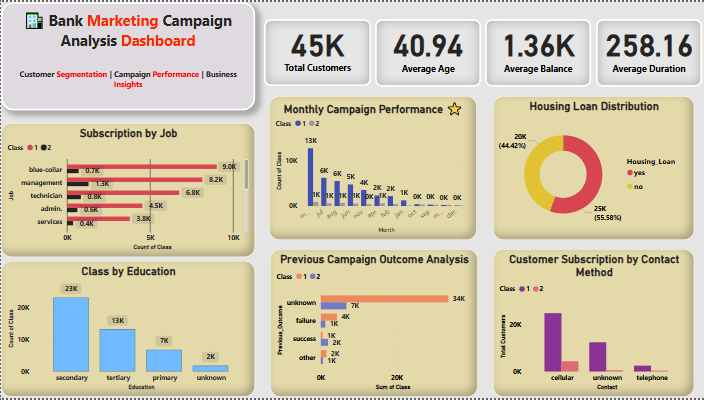

Layout of this report page (visuals, bound fields, positions):
{"tool":"powerbi","page":{"name":"Page 1","canvas":[1280,720],"ordinal":0},"visuals":[{"type":"textbox","box":[0,0,461.9,196.5],"z":0},{"type":"card","fields":{"Values":["Final_Bank_Marketing_Dataset.Total Customers"]},"box":[478.2,30.9,194.5,121.8],"z":1000},{"type":"card","fields":{"Values":["Final_Bank_Marketing_Dataset.Average Age"]},"box":[680.3,30.2,193.2,122.6],"z":2000},{"type":"card","fields":{"Values":["Final_Bank_Marketing_Dataset.Average Balance"]},"box":[880.2,30.2,193.2,122.6],"z":3000},{"type":"card","fields":{"Values":["Final_Bank_Marketing_Dataset.Average Duration"]},"box":[1081.8,30.2,193.2,122.6],"z":4000},{"type":"clusteredBarChart","title":"Subscription by Job","fields":{"Category":["Final_Bank_Marketing_Dataset.Job"],"Y":["CountNonNull(Final_Bank_Marketing_Dataset.Class)"],"Series":["Final_Bank_Marketing_Dataset.Class"]},"box":[0,220.1,461.9,243.6],"z":5000},{"type":"clusteredColumnChart","title":"Class by Education","fields":{"Category":["Final_Bank_Marketing_Dataset.Education"],"Y":["CountNonNull(Final_Bank_Marketing_Dataset.Class)"]},"box":[0,470.3,461.9,246.9],"z":6000},{"type":"clusteredColumnChart","title":"Monthly Campaign Performance ⭐","fields":{"Category":["Final_Bank_Marketing_Dataset.Month"],"Y":["CountNonNull(Final_Bank_Marketing_Dataset.Class)"],"Series":["Final_Bank_Marketing_Dataset.Class"]},"box":[487.1,171.3,378,262],"z":7000},{"type":"donutChart","title":"Housing Loan Distribution","fields":{"Category":["Final_Bank_Marketing_Dataset.Housing_Loan"],"Y":["Final_Bank_Marketing_Dataset.Total Customers"]},"box":[895.3,171.3,366.2,262],"z":8000},{"type":"clusteredColumnChart","title":"Customer Subscription by Contact Method","fields":{"Category":["Final_Bank_Marketing_Dataset.Contact"],"Y":["Final_Bank_Marketing_Dataset.Total Customers"],"Series":["Final_Bank_Marketing_Dataset.Class"]},"box":[895.3,448.5,366.2,268.8],"z":9000},{"type":"clusteredBarChart","title":"Previous Campaign Outcome Analysis","fields":{"Category":["Final_Bank_Marketing_Dataset.Previous_Outcome"],"Y":["Sum(Final_Bank_Marketing_Dataset.Class)"],"Series":["Final_Bank_Marketing_Dataset.Class"]},"box":[489.2,448.2,378.3,268.7],"z":10000}]}

Visuals, with their boxes in screenshot pixels (x1, y1, x2, y2), scaled from the page's 1280x720 canvas onto the 704x400 screenshot:
textbox: select_region(0, 0, 254, 109)
card - Final_Bank_Marketing_Dataset.Total Customers: select_region(263, 17, 370, 85)
card - Final_Bank_Marketing_Dataset.Average Age: select_region(374, 17, 480, 85)
card - Final_Bank_Marketing_Dataset.Average Balance: select_region(484, 17, 590, 85)
card - Final_Bank_Marketing_Dataset.Average Duration: select_region(595, 17, 701, 85)
"Subscription by Job" clusteredBarChart: select_region(0, 122, 254, 258)
"Class by Education" clusteredColumnChart: select_region(0, 261, 254, 398)
"Monthly Campaign Performance ⭐" clusteredColumnChart: select_region(268, 95, 476, 241)
"Housing Loan Distribution" donutChart: select_region(492, 95, 694, 241)
"Customer Subscription by Contact Method" clusteredColumnChart: select_region(492, 249, 694, 398)
"Previous Campaign Outcome Analysis" clusteredBarChart: select_region(269, 249, 477, 398)
